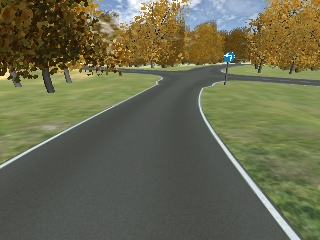left: (223, 52, 234, 63)
